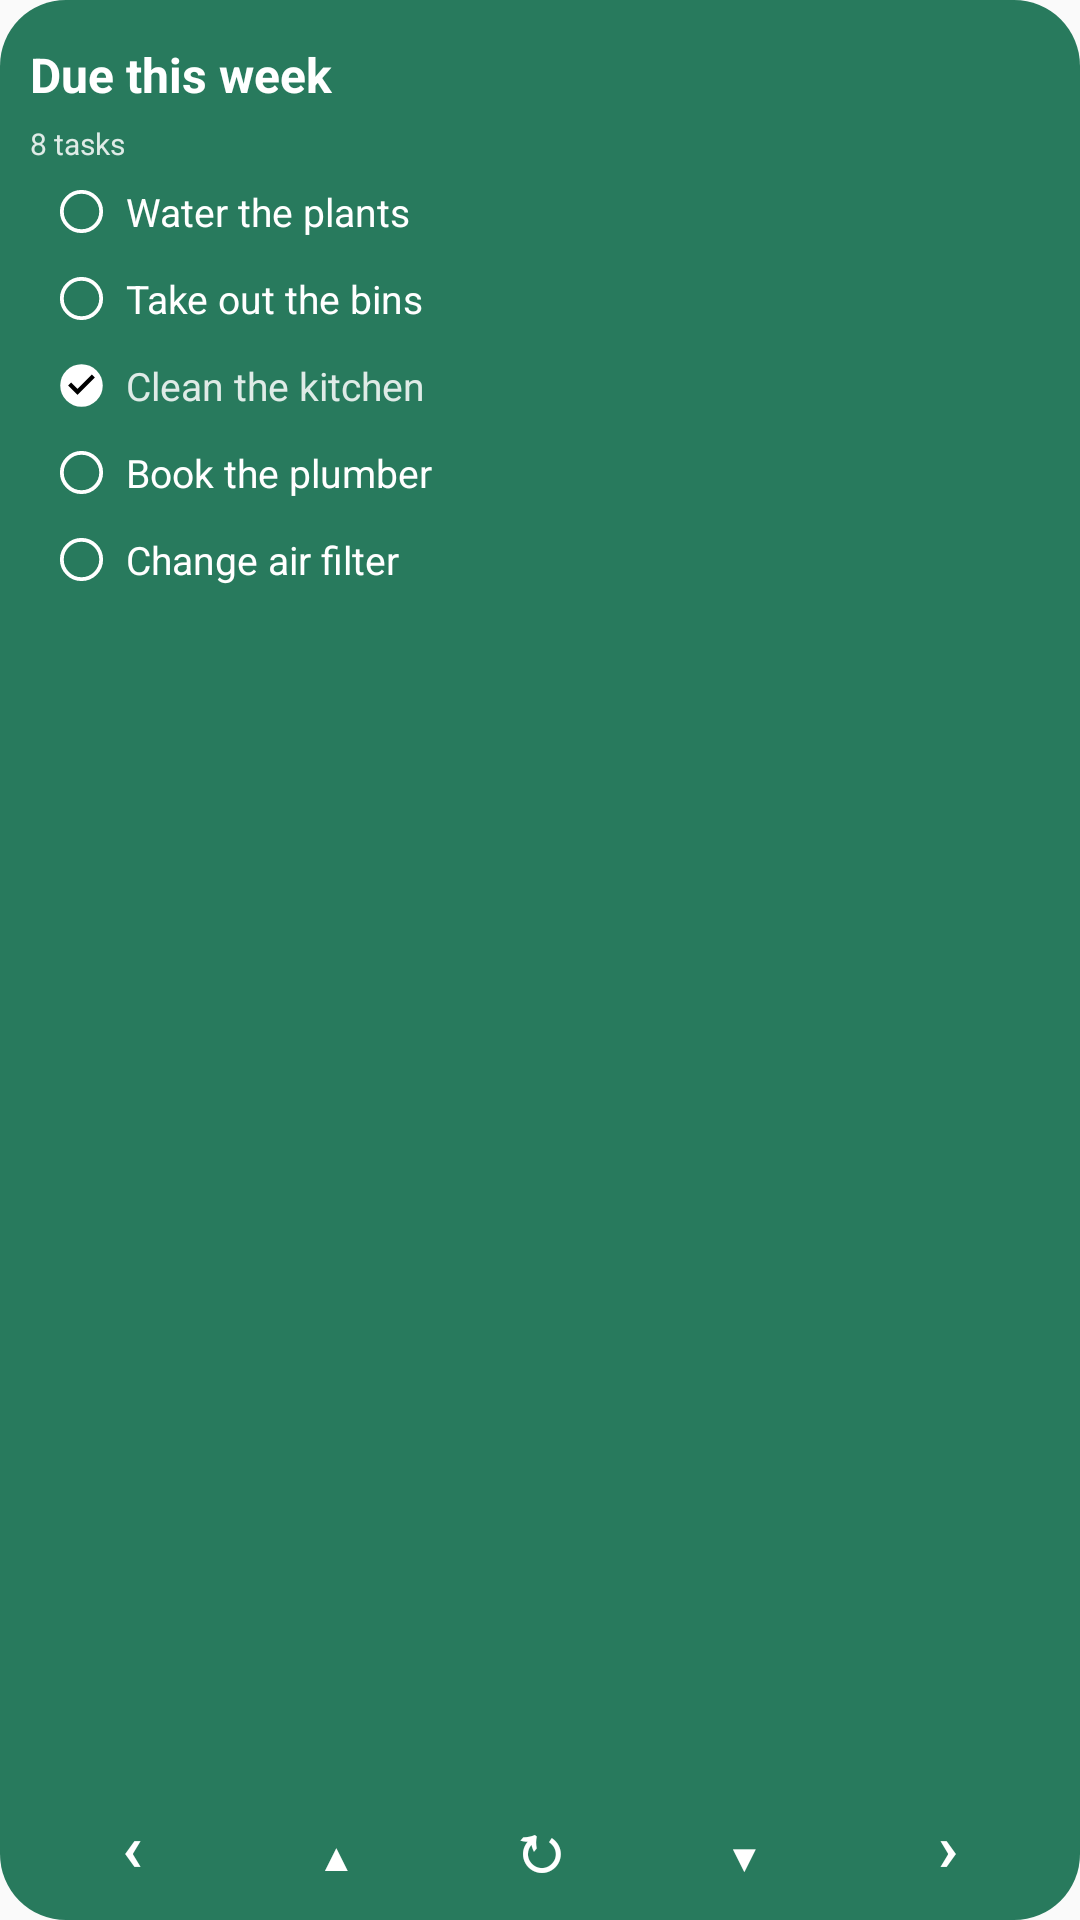

Icons on this 1080*1920 Android screen, each with the point to tap as (x=x, y=y):
widget project check circle: (x=81, y=385)
